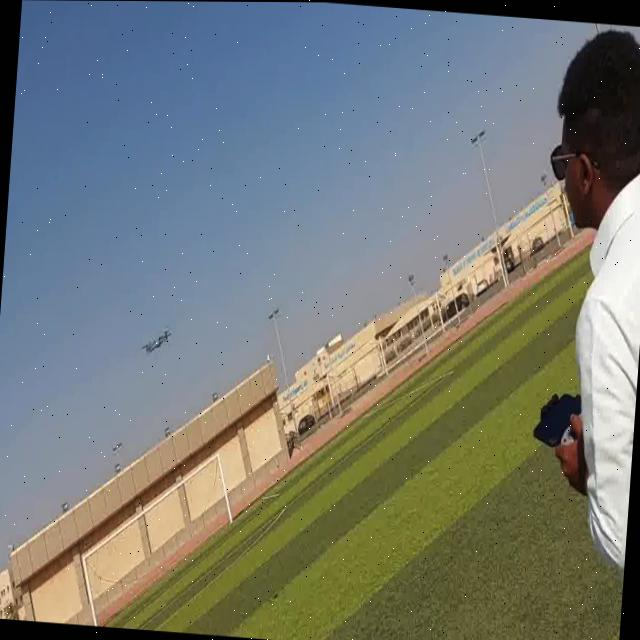drone: (135, 317, 174, 368)
